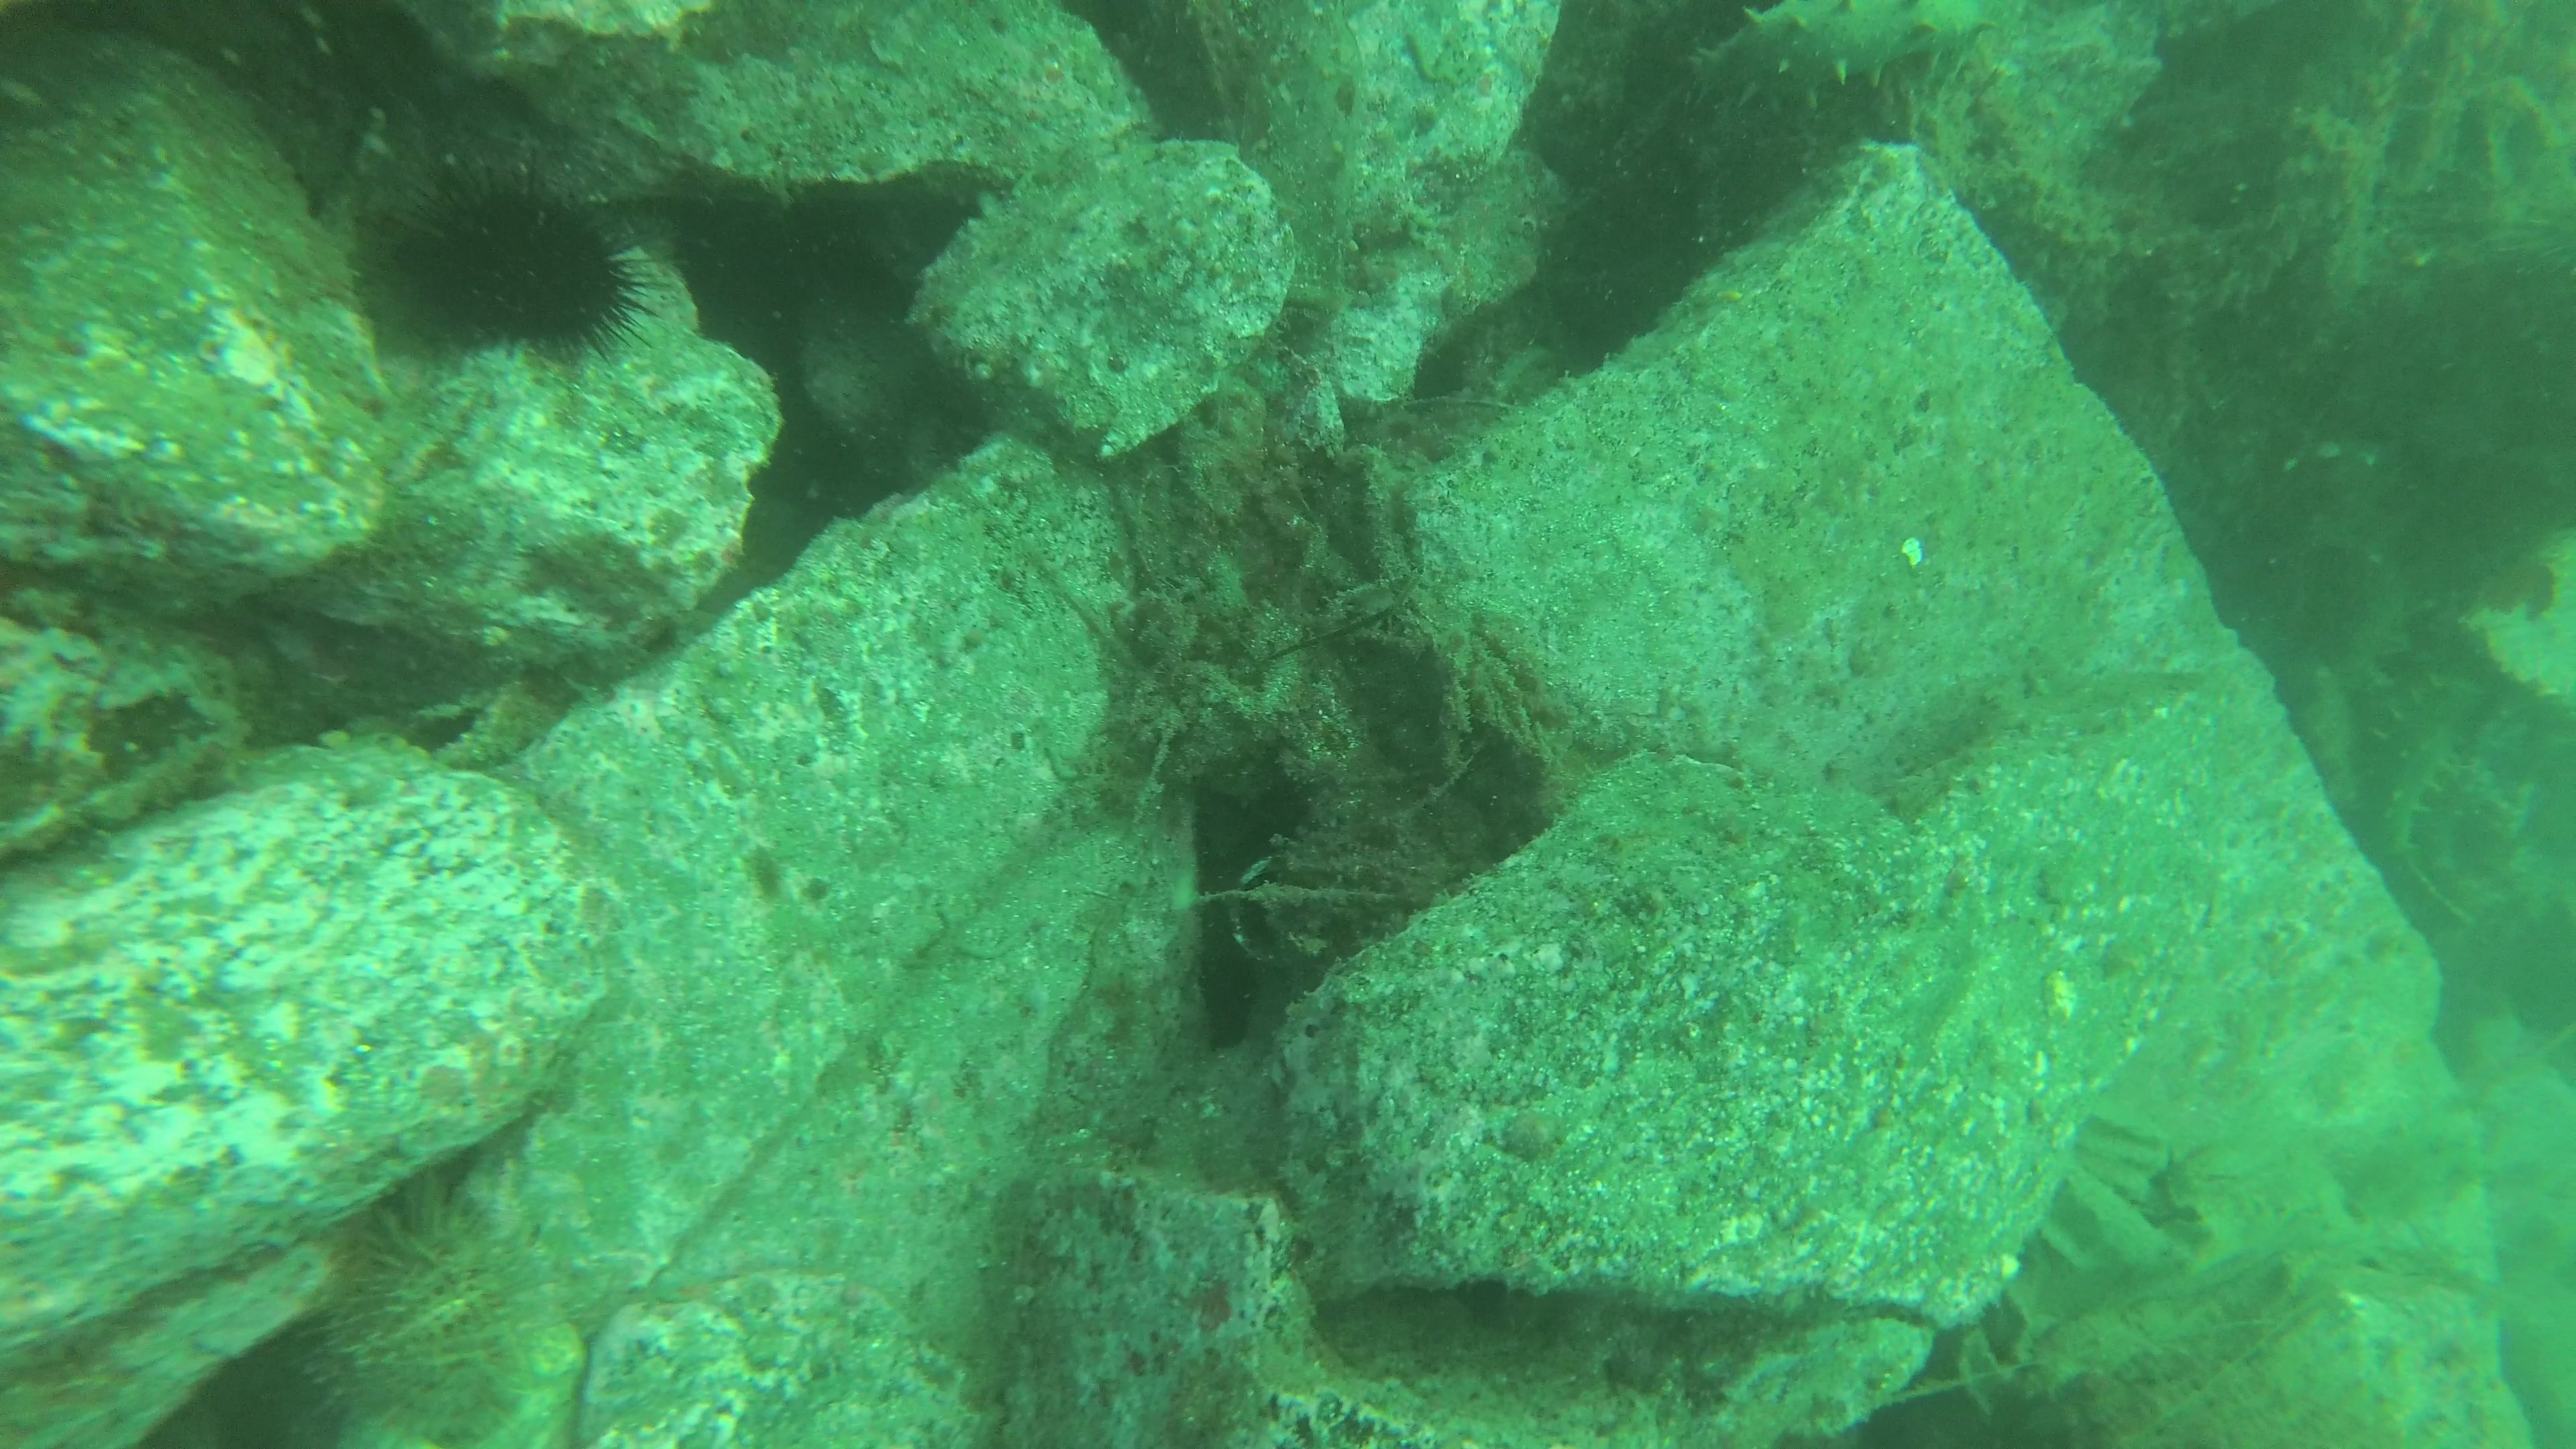echinus: (297, 1194, 522, 1449), (396, 161, 662, 364), (2371, 678, 2496, 879), (2325, 566, 2434, 699)
holothurian: (1667, 0, 2006, 173), (2020, 1265, 2281, 1392), (405, 663, 557, 787)
